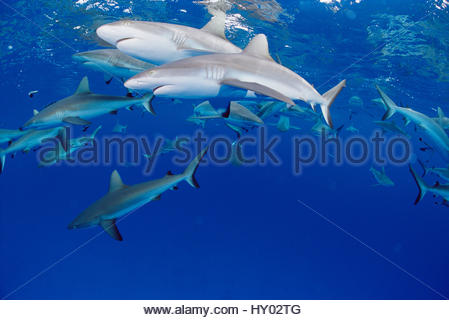Carcharhinus_amblyrhynchos: (122, 59, 340, 128), (57, 158, 221, 245), (93, 15, 238, 60), (17, 89, 160, 132)
